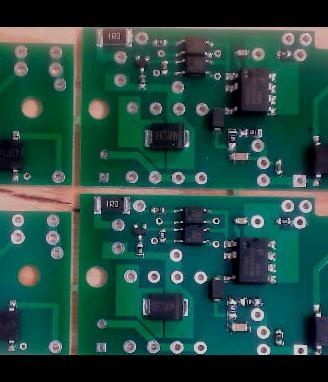chip-capacitor: (225, 321, 252, 333), (227, 152, 251, 163), (232, 48, 250, 57), (232, 217, 247, 227)
chip-resistor: (93, 27, 133, 49), (91, 195, 131, 215), (237, 126, 262, 139), (224, 297, 237, 321), (238, 296, 264, 308), (225, 126, 236, 151), (272, 328, 284, 348), (273, 157, 284, 178), (272, 217, 291, 227), (134, 241, 144, 259), (275, 49, 291, 60), (136, 74, 146, 91), (159, 59, 168, 77), (151, 37, 167, 47), (157, 227, 166, 243), (149, 207, 166, 215)
diode: (140, 291, 188, 323), (142, 122, 189, 150), (209, 105, 224, 135), (208, 275, 223, 303)
ic: (222, 66, 279, 117), (221, 235, 276, 285), (0, 129, 22, 182), (0, 298, 20, 353), (308, 133, 328, 187), (310, 303, 328, 355), (172, 36, 213, 57), (172, 57, 213, 77), (171, 206, 211, 225), (172, 227, 210, 245)
transistor: (133, 54, 150, 73), (131, 222, 148, 240)
